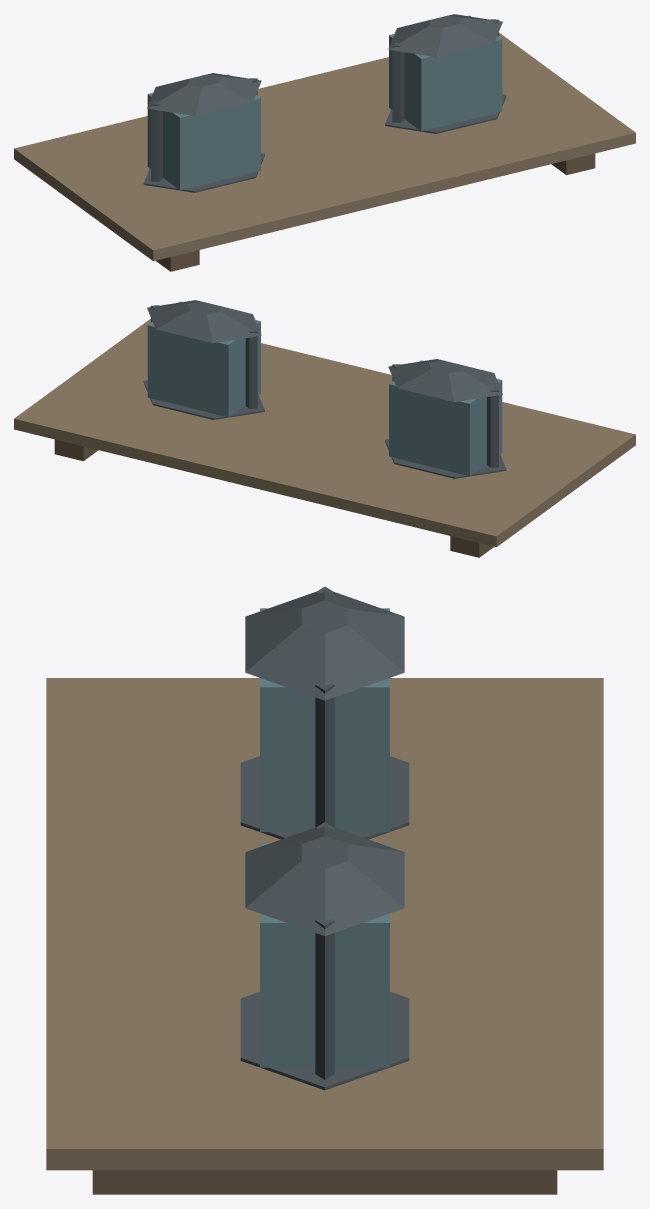
Rendered from lamp_shelf.glb.
3 views of the same model, one above another, from view 1: azimuth 30°, elevation 25°; view 2: azimuth 150°, elevation 25°; view 3: azimuth 270°, elevation 25° (orthographic). The views are drawn at different scales.
Visible parts, largest first — view 1: lamp_shelf; view 2: lamp_shelf; view 3: lamp_shelf.
Boxes of the visible parts, bbox=[...] form: lamp_shelf: bbox=[14, 14, 635, 271]; lamp_shelf: bbox=[14, 300, 635, 557]; lamp_shelf: bbox=[46, 586, 603, 1194].
Bounding box in the file's own units: 1.92 × 0.48 × 0.96.
